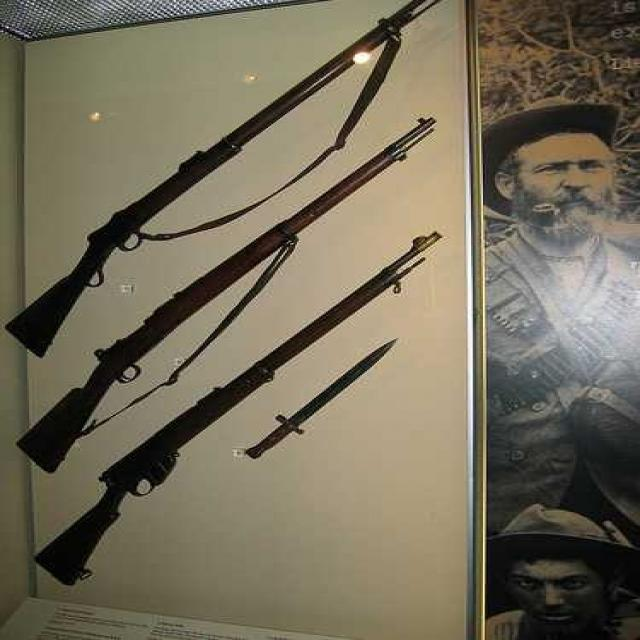weapon: (18, 108, 460, 480), (15, 0, 461, 357), (41, 216, 451, 590)
